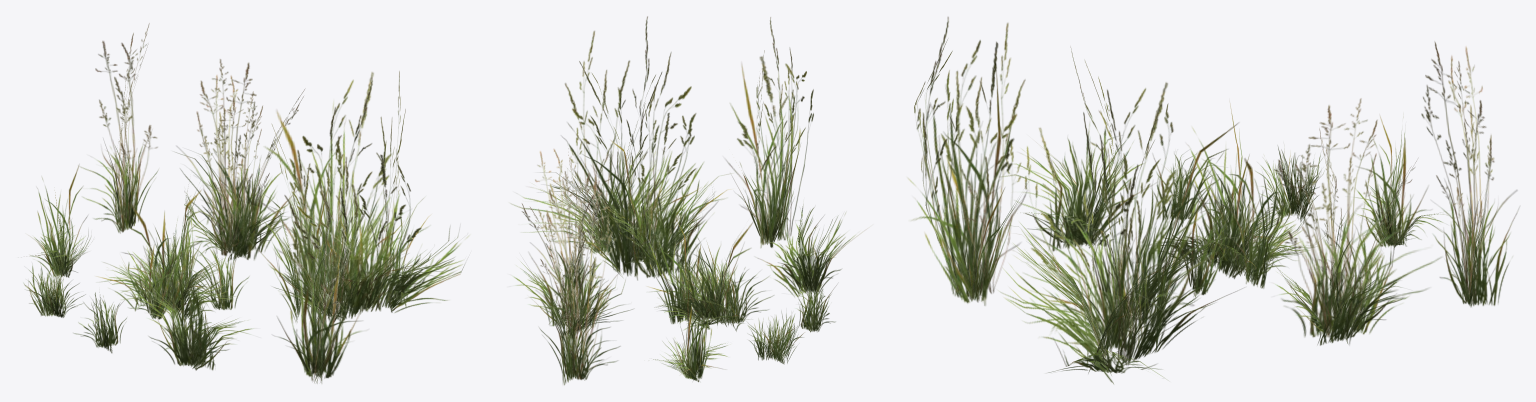
Rendered from sf_bush_1.glb.
3 renders of one model, left to right at view 1: azimuth 30°, elevation 25°; view 2: azimuth 150°, elevation 25°; view 3: azimuth 270°, elevation 25°, orthographic. The views are drawn at different scales.
Parts seen in each view (by area): view 1: Medium_bush_2_phong3_0; view 2: Medium_bush_2_phong3_0; view 3: Medium_bush_2_phong3_0.
Boxes of the visible parts, x1=… form: Medium_bush_2_phong3_0: x1=23, y1=23, x2=470, y2=383; Medium_bush_2_phong3_0: x1=509, y1=16, x2=870, y2=385; Medium_bush_2_phong3_0: x1=907, y1=16, x2=1519, y2=384.
Size of the model in its own units: 2.01 by 1.3 by 2.29.
Materials: 1 (1 with a texture image).
